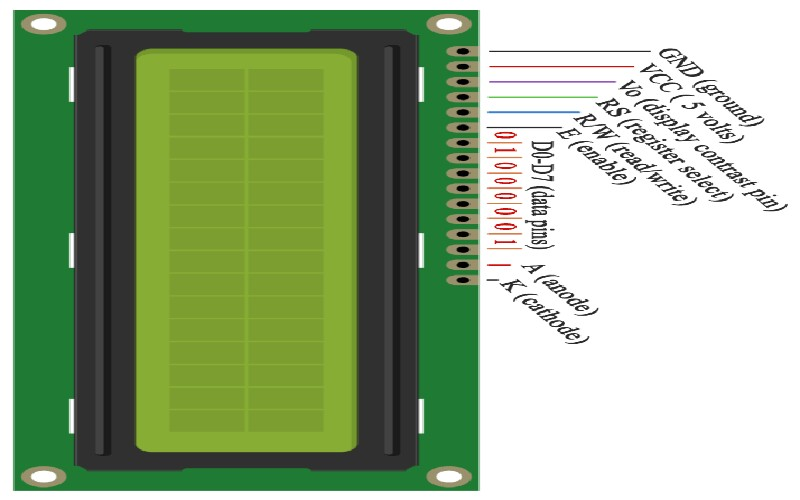LCD: (64, 23, 420, 474)
